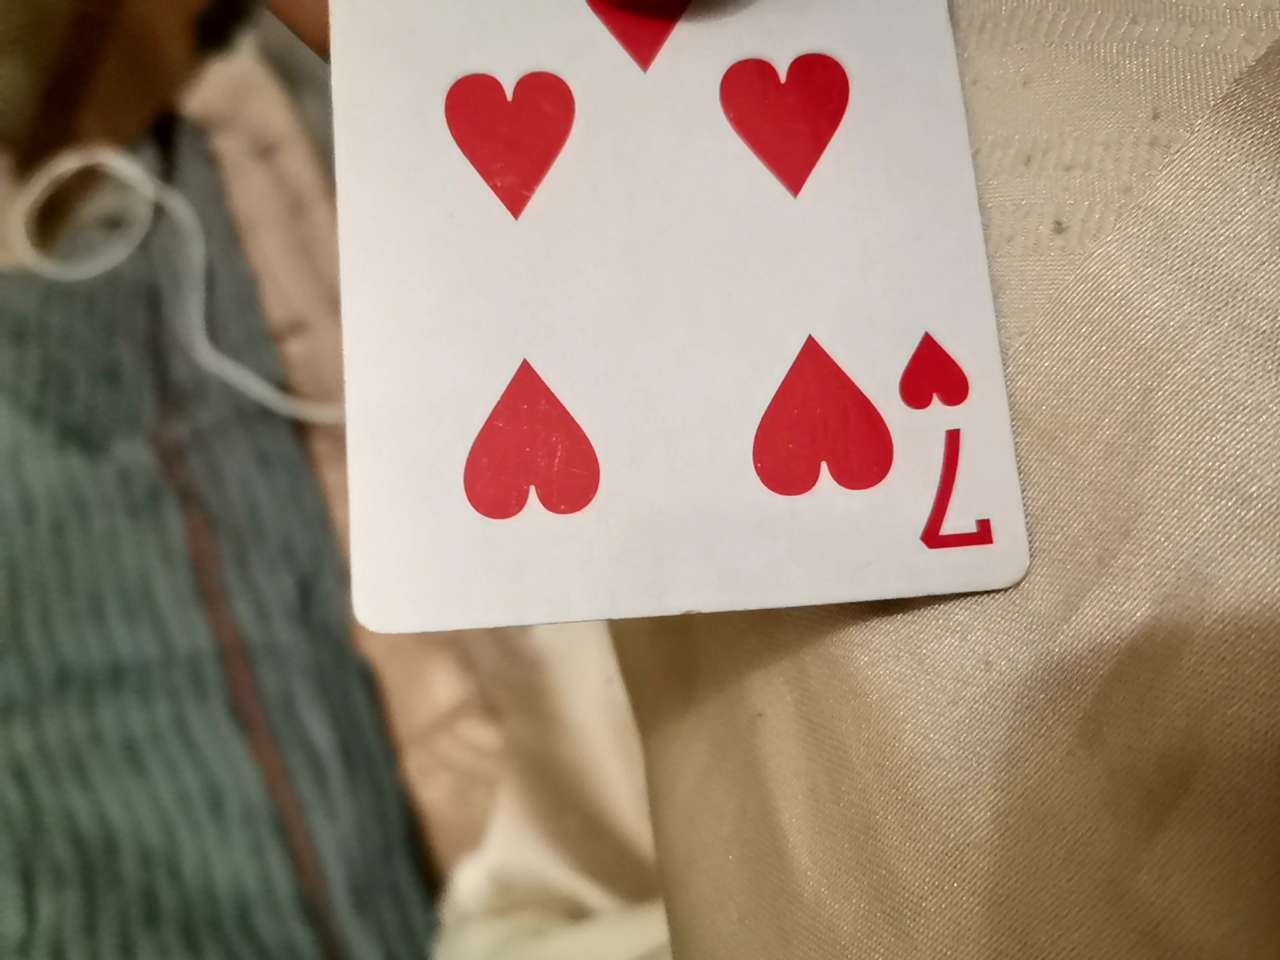hx 7: (304, 1, 1018, 657)
